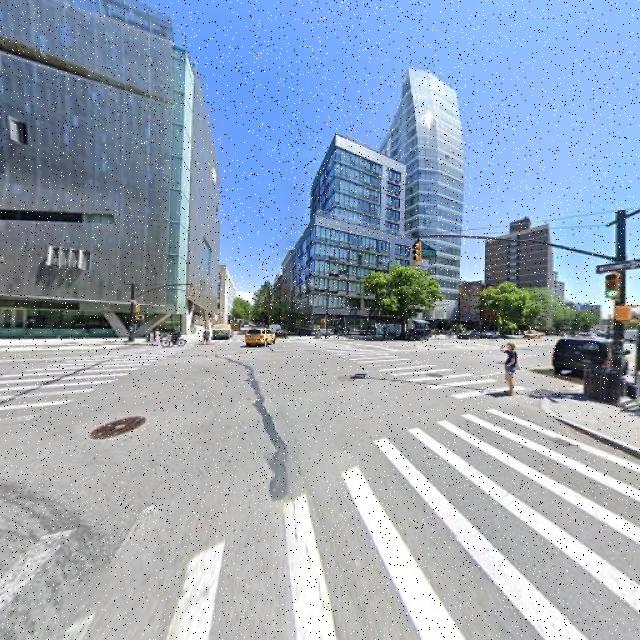Building: (1, 1, 220, 342), (292, 217, 413, 334), (417, 68, 463, 330)
